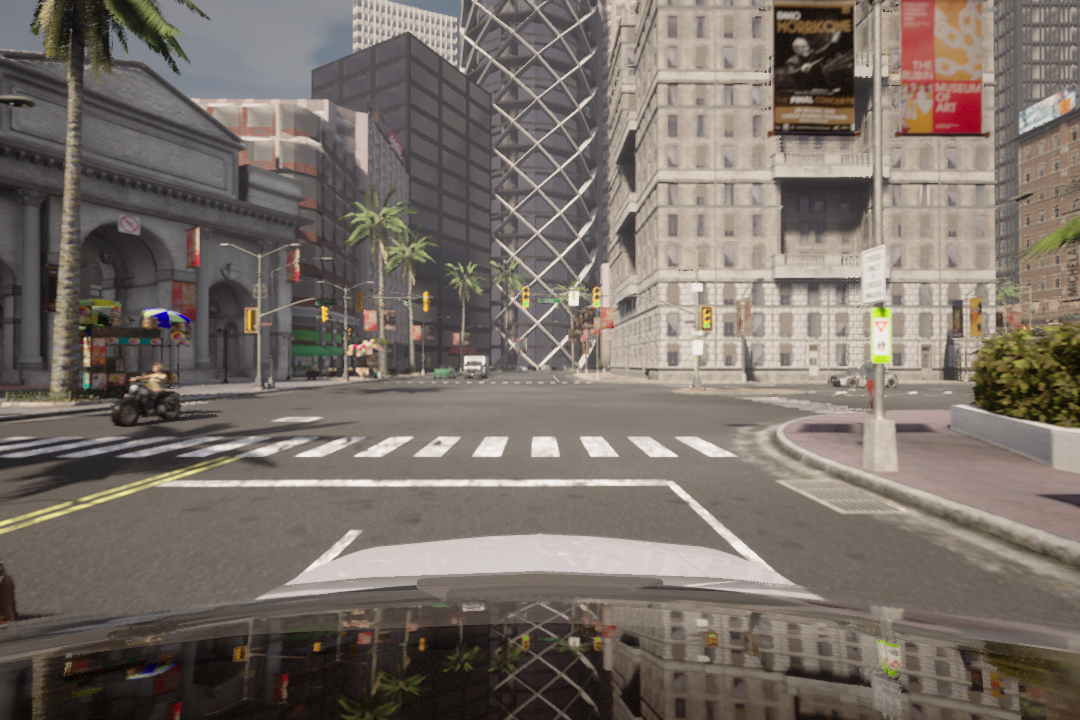TrafficLight: (701, 307, 713, 330), (521, 286, 531, 311), (593, 286, 602, 310)
TrafficSign: (120, 216, 143, 237)
walkside: (3, 434, 742, 473)
